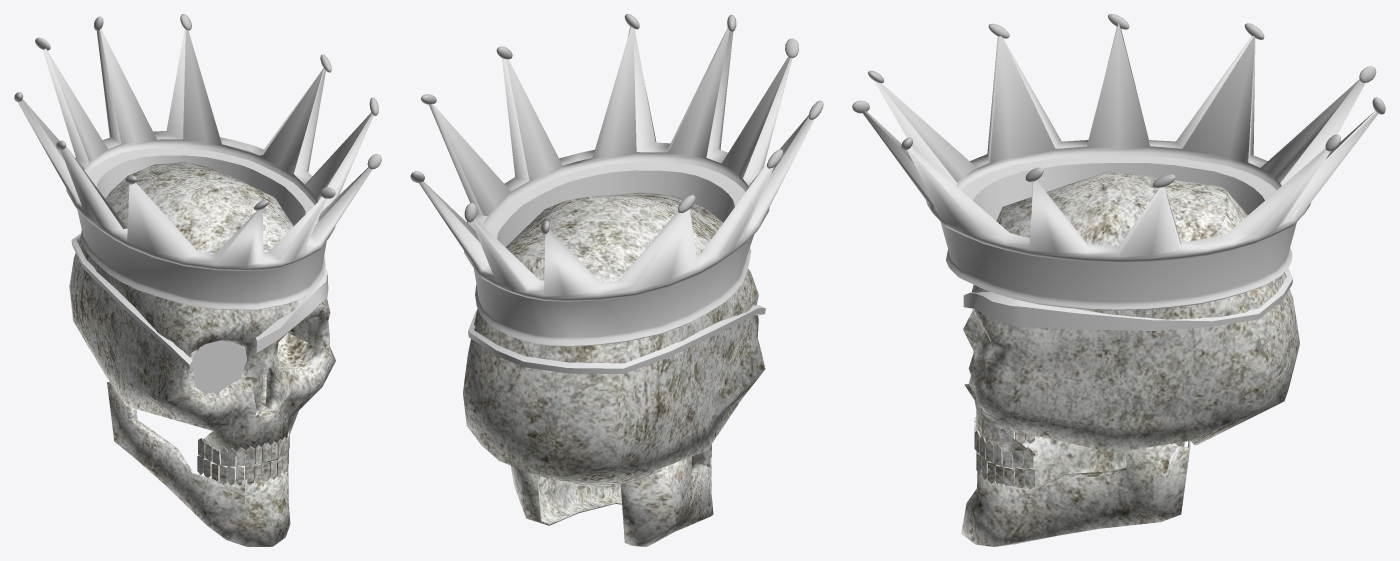
The model's file is Skull_New.FBX.
3 renders of one model, left to right at view 1: azimuth 30°, elevation 25°; view 2: azimuth 150°, elevation 25°; view 3: azimuth 270°, elevation 25°, orthographic. The views are drawn at different scales.
Parts seen in each view (by area): view 1: Object002, Crown, Eye_Patch_Strap, EyePatch; view 2: Crown, Object002, Eye_Patch_Strap; view 3: Object002, Crown, Eye_Patch_Strap.
Boxes of the visible parts, x1,y1,x2,y2 form: Object002: [69, 162, 335, 546]; Crown: [14, 14, 381, 310]; Eye_Patch_Strap: [71, 233, 328, 369]; EyePatch: [192, 340, 247, 393]; Crown: [410, 14, 823, 346]; Object002: [463, 192, 765, 546]; Eye_Patch_Strap: [468, 305, 765, 373]; Object002: [961, 171, 1299, 546]; Crown: [852, 14, 1385, 310]; Eye_Patch_Strap: [963, 268, 1292, 330].
Bounding box in the file's own units: 315 × 404 × 441.
